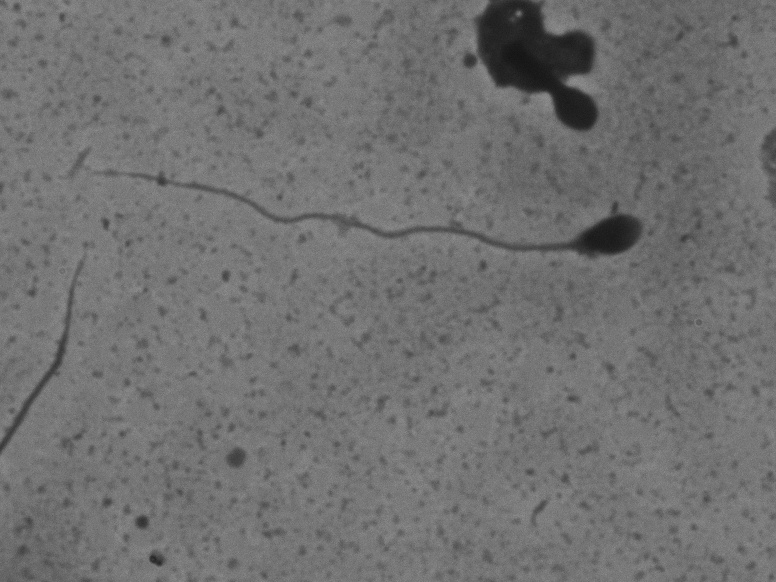Normal: (94, 134, 664, 323)
